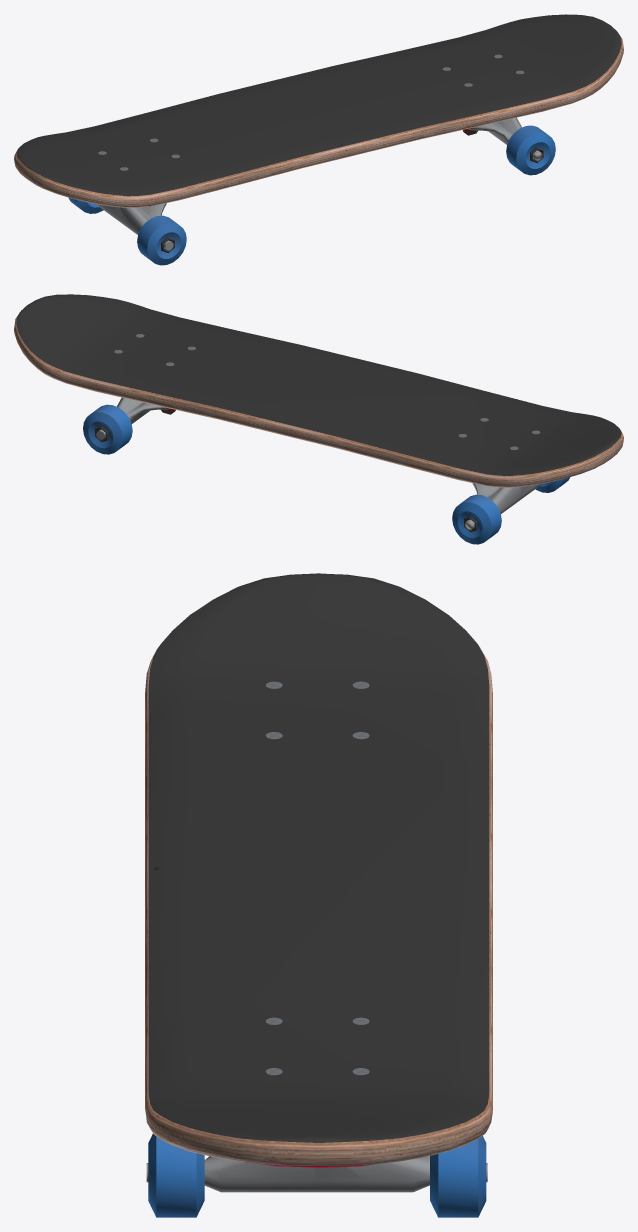
Rendered from skateboard.glb.
3 renders of one model, top to bottom at view 1: azimuth 30°, elevation 25°; view 2: azimuth 150°, elevation 25°; view 3: azimuth 270°, elevation 25°, orthographic. The views are drawn at different scales.
Parts seen in each view (by area): view 1: polySurface9, polySurface22, polySurface21, polySurface33, polySurface19; view 2: polySurface9, polySurface32, polySurface20, polySurface33, polySurface19; view 3: polySurface9, polySurface19, polySurface22, polySurface20.
Part boxes in pixels (x1=…): polySurface9: x1=14, y1=14, x2=623, y2=207; polySurface22: x1=506, y1=125, x2=555, y2=175; polySurface21: x1=137, y1=215, x2=186, y2=265; polySurface33: x1=96, y1=203, x2=173, y2=250; polySurface19: x1=467, y1=117, x2=542, y2=160; polySurface9: x1=14, y1=294, x2=623, y2=487; polySurface32: x1=452, y1=494, x2=501, y2=544; polySurface20: x1=83, y1=404, x2=132, y2=454; polySurface33: x1=465, y1=483, x2=541, y2=529; polySurface19: x1=96, y1=397, x2=169, y2=439; polySurface9: x1=145, y1=573, x2=492, y2=1167; polySurface19: x1=146, y1=1156, x2=487, y2=1192; polySurface22: x1=148, y1=1134, x2=204, y2=1217; polySurface20: x1=430, y1=1136, x2=486, y2=1217.
Bounding box in the file's own units: 23.78 × 3.59 × 6.11.
1 material, 1 textured.
